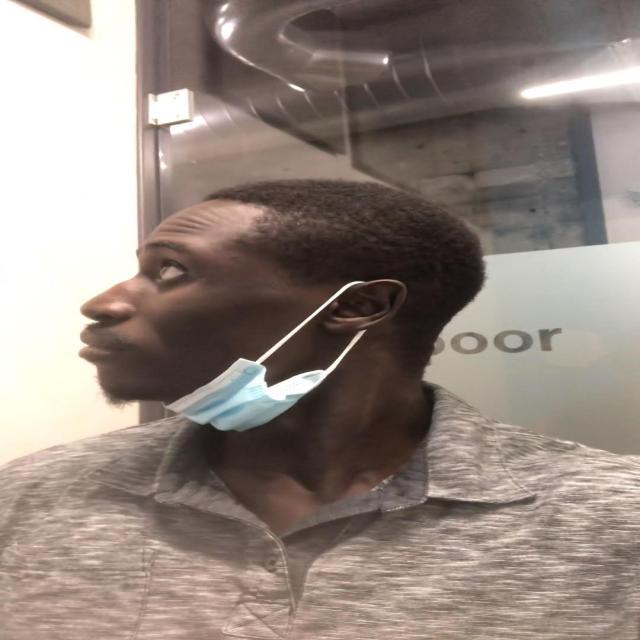face: (73, 202, 422, 406)
